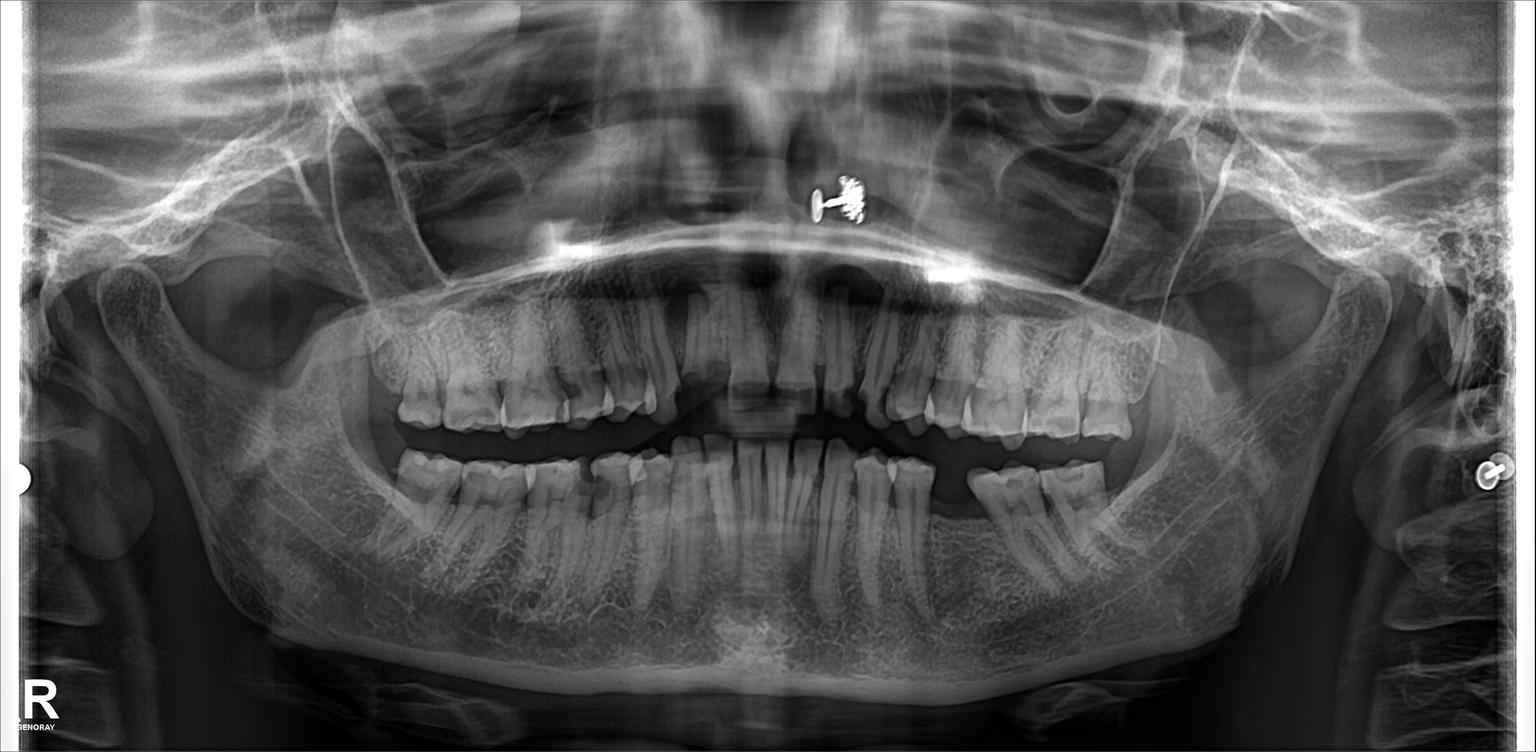Dental Caries: (572, 467, 621, 515), (683, 367, 729, 399), (825, 389, 872, 416), (562, 370, 599, 401), (626, 363, 651, 396)
Missing Tooth: (935, 462, 980, 578), (1112, 447, 1168, 536), (354, 331, 407, 420), (352, 439, 401, 514)
